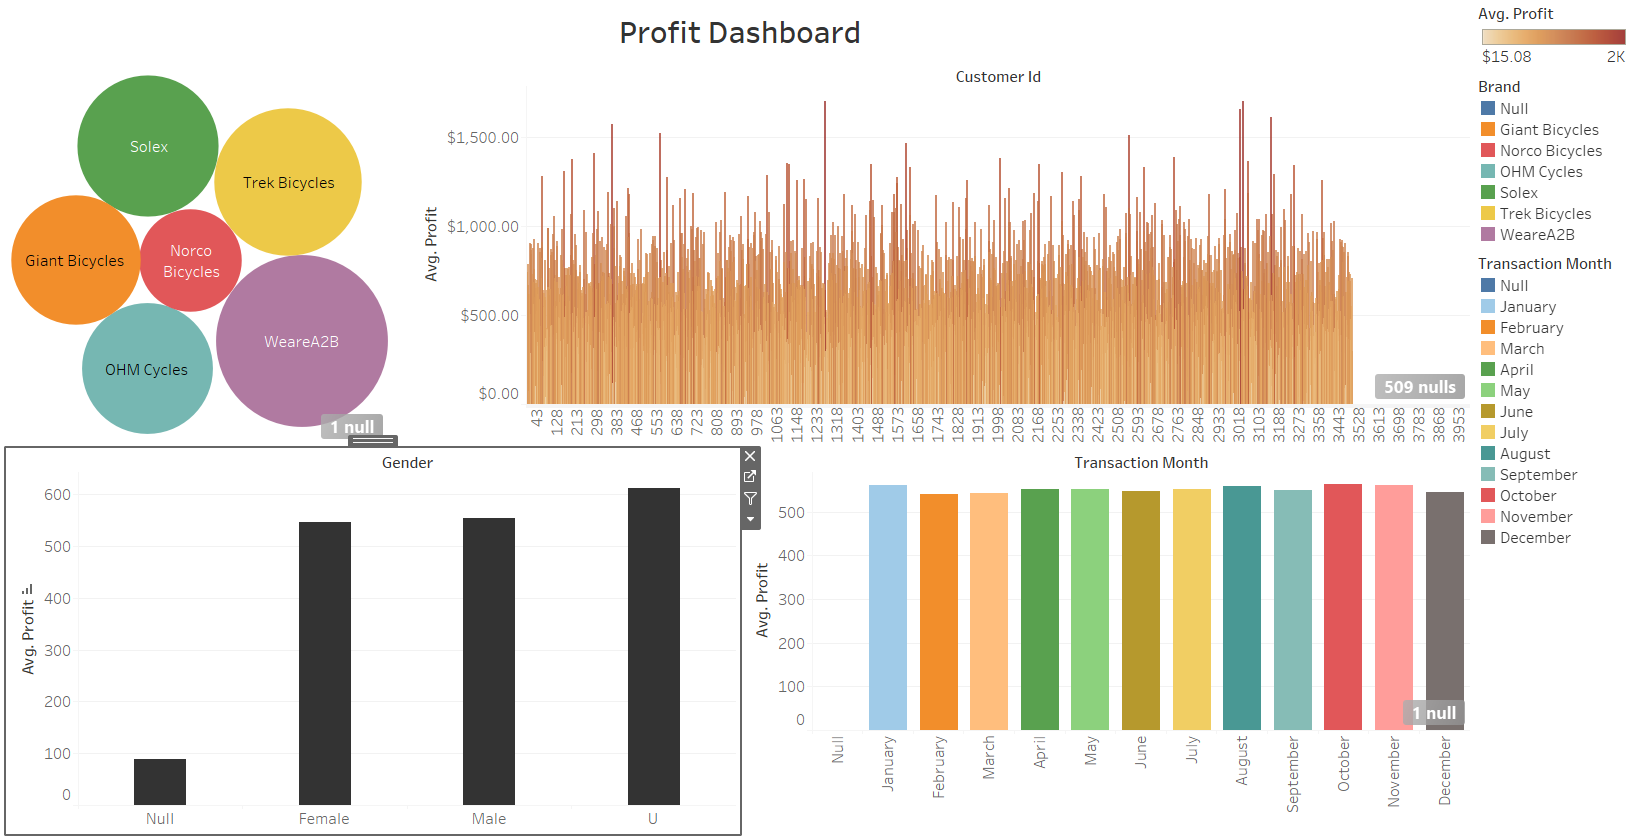

The dashboard page shown, as its layout file describes it:
{"tool":"tableau","page":{"name":"Dashboard 1","canvas":[1000,1000],"units":"permille","ordinal":0},"visuals":[{"type":"title","box":[4.9,9.4,892.9,74]},{"type":"legend","title":"Sheet 2","param":"[federated.0x40rnl1ukbunm18vdsy30x7l6pv].[avg:Profit:qk]","box":[897.8,9.4,97.3,85.8]},{"type":"worksheet","title":"Sheet 3","mark":"Circle","box":[4.9,83.4,245.1,453.5]},{"type":"worksheet","title":"Sheet 2","mark":"Automatic","rows":["Profit"],"cols":["customer_id"],"box":[250,83.4,647.8,453.5]},{"type":"legend","title":"Sheet 3","param":"[federated.0x40rnl1ukbunm18vdsy30x7l6pv].[none:brand:nk]","box":[897.8,95.2,97.3,208]},{"type":"legend","title":"Sheet 4","param":"[federated.0x40rnl1ukbunm18vdsy30x7l6pv].[none:Transaction Month:nk]","box":[897.8,303.2,97.3,363.1]},{"type":"worksheet","title":"Sheet 1","mark":"Automatic","rows":["Profit"],"cols":["gender"],"box":[4.9,536.9,446.4,453.7]},{"type":"worksheet","title":"Sheet 4","mark":"Automatic","rows":["Profit"],"cols":["Transaction Month"],"box":[451.3,536.9,446.5,453.7]}]}

Visuals, with their boxes on the dashboard's canvas, which has no fixed pixel size, in thousandths of its width and height (x1, y1, x2, y2). These are canvas units, not pixel positions in the 1638x840 screenshot, which may show the page scaled, cropped or inside an application window:
title: [x1=5, y1=9, x2=898, y2=83]
"Sheet 2" legend: [x1=898, y1=9, x2=995, y2=95]
"Sheet 3" worksheet (Circle marks): [x1=5, y1=83, x2=250, y2=537]
"Sheet 2" worksheet: [x1=250, y1=83, x2=898, y2=537]
"Sheet 3" legend: [x1=898, y1=95, x2=995, y2=303]
"Sheet 4" legend: [x1=898, y1=303, x2=995, y2=666]
"Sheet 1" worksheet: [x1=5, y1=537, x2=451, y2=991]
"Sheet 4" worksheet: [x1=451, y1=537, x2=898, y2=991]
